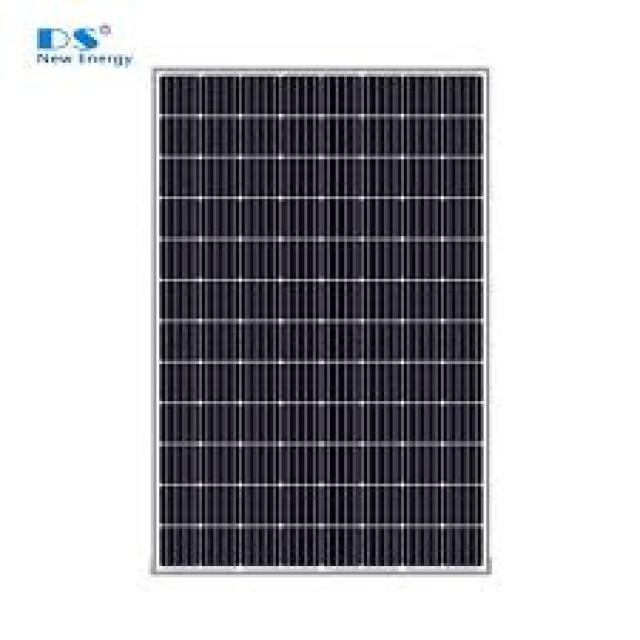Solar: (155, 66, 494, 577)
